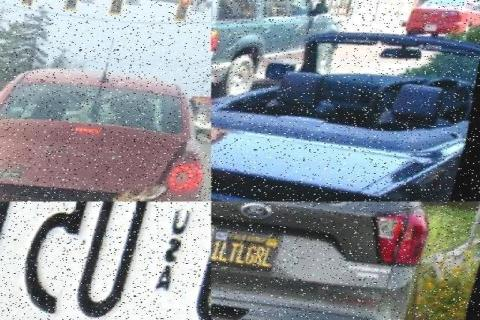LicensePlate: (0, 201, 211, 320), (213, 224, 290, 272), (211, 61, 231, 81)
